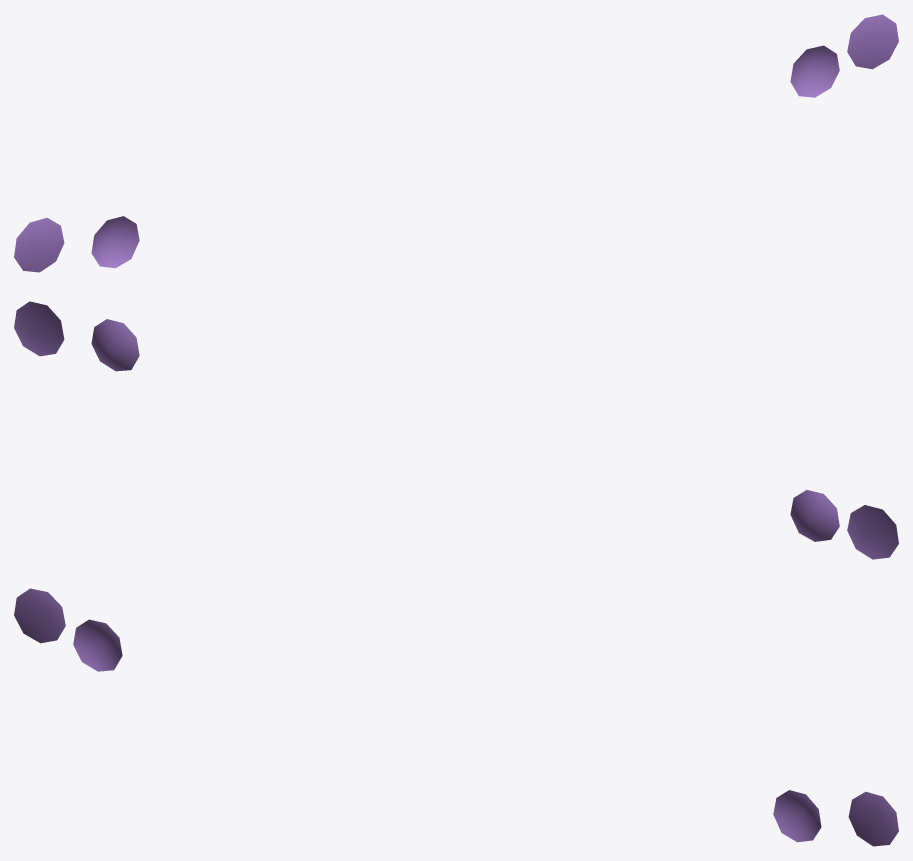
The model's file is RX7_FB03_Detail.fbx.
3 renders of one model, top to bottom at view 1: azimuth 30°, elevation 25°; view 2: azimuth 150°, elevation 25°; view 3: azimuth 330°, elevation 25°, orthographic.
Parts seen in each view (by area): view 1: RX7_FB03_Detail; view 2: RX7_FB03_Detail; view 3: RX7_FB03_Detail.
Boxes of the visible parts, x1=… form: RX7_FB03_Detail: x1=14, y1=14, x2=898, y2=272; RX7_FB03_Detail: x1=14, y1=301, x2=898, y2=559; RX7_FB03_Detail: x1=14, y1=588, x2=898, y2=846.
Size of the model in its own units: 138 by 8.66 by 4.2.
